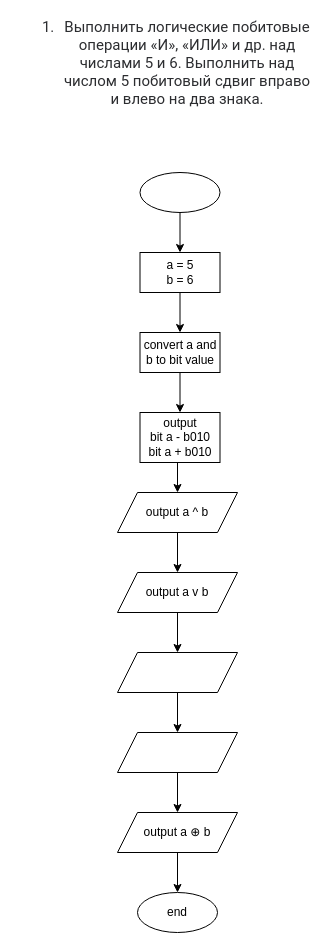
The diagram is 334 pixels wide and 950 high, and some of its shapes have lost their labels. The box of each missing label's shape, as (x1, y1, x2, y2) in pixels:
output a ^ !b: (116, 732, 238, 772)
output a v !b: (116, 652, 238, 692)
start: (139, 172, 220, 212)
